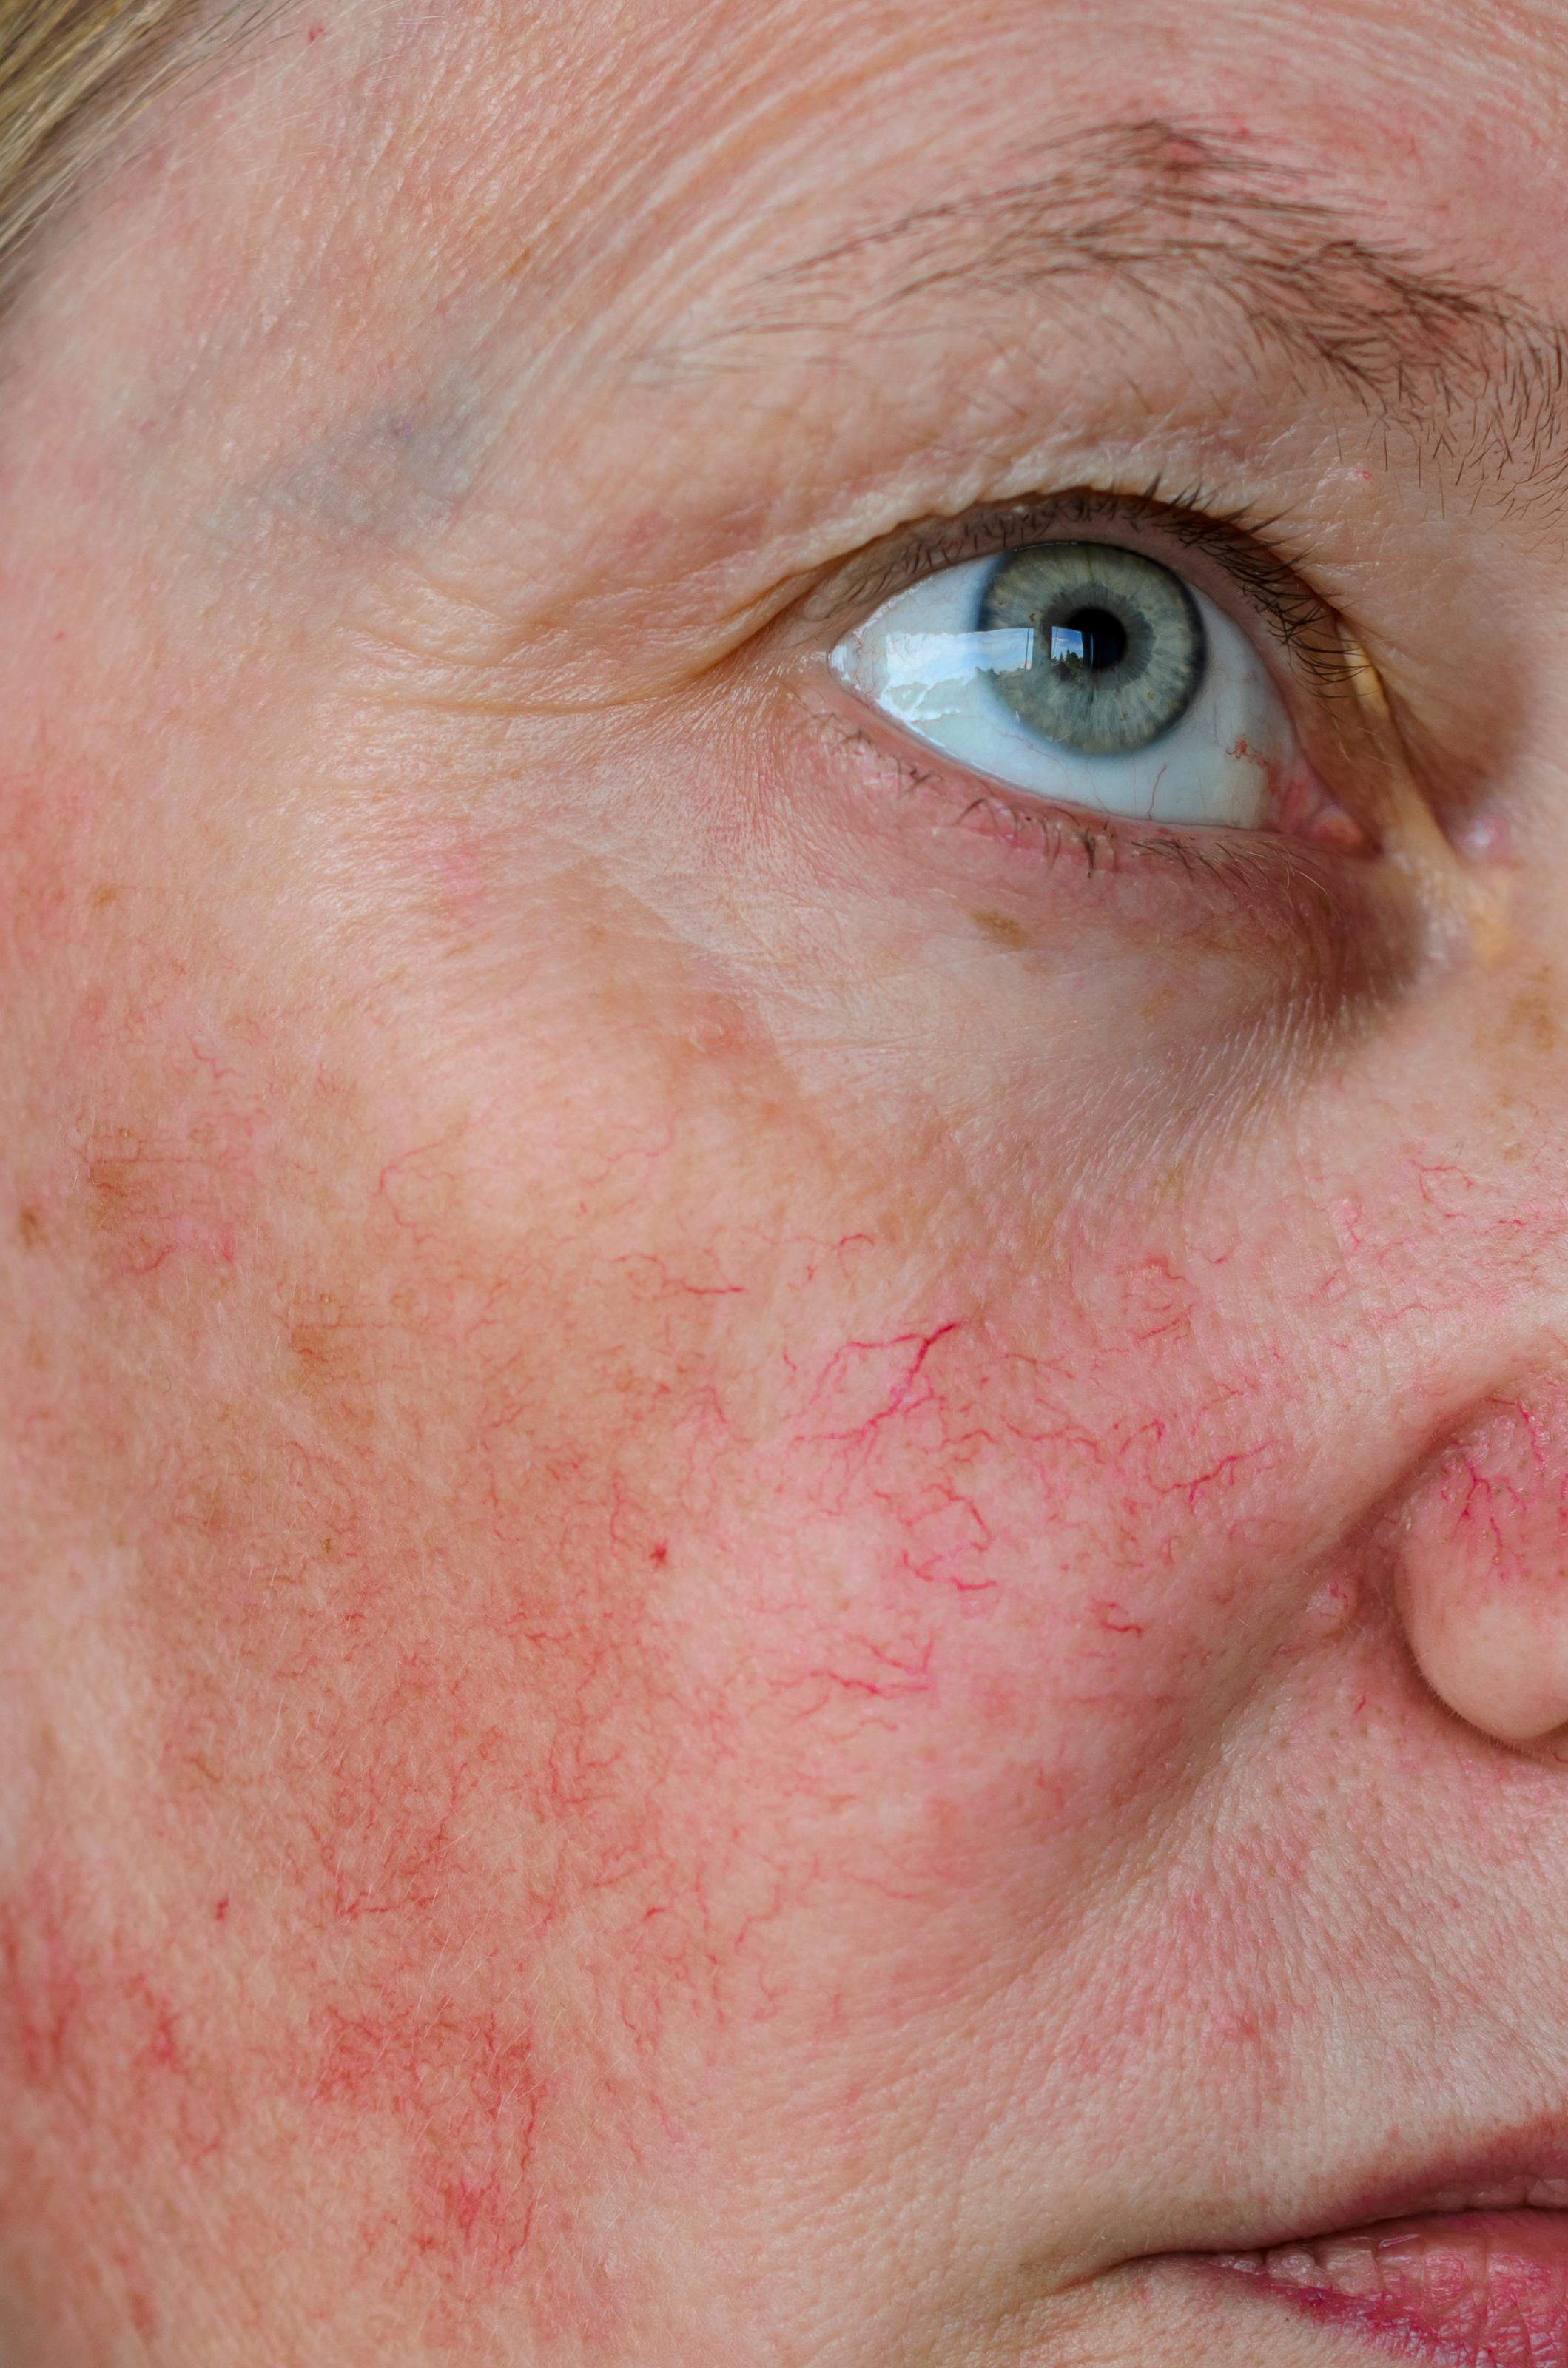Skin-Redness: (285, 1684, 724, 2261), (791, 1243, 1309, 1713), (570, 1192, 788, 1365)
